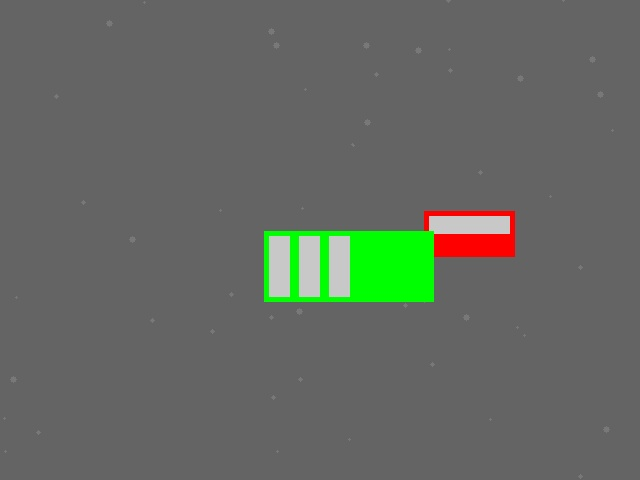bus: (264, 231, 433, 301)
car: (424, 211, 514, 256)
